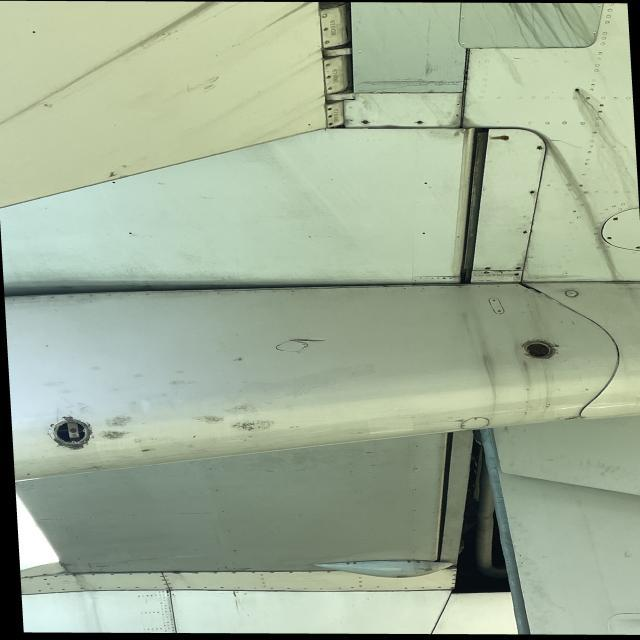crack: (289, 334, 341, 348)
